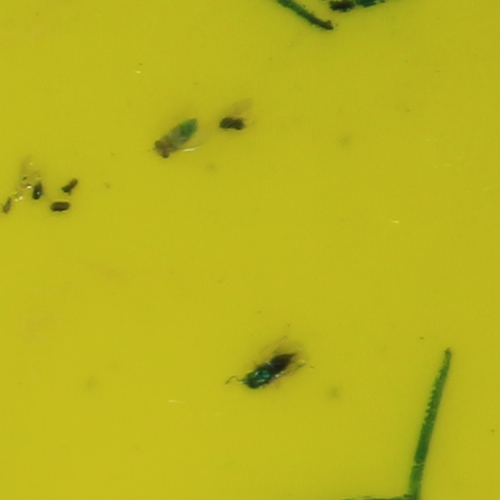Glycaspis: (153, 120, 202, 158)
Psyllaephagus: (243, 352, 294, 390)
